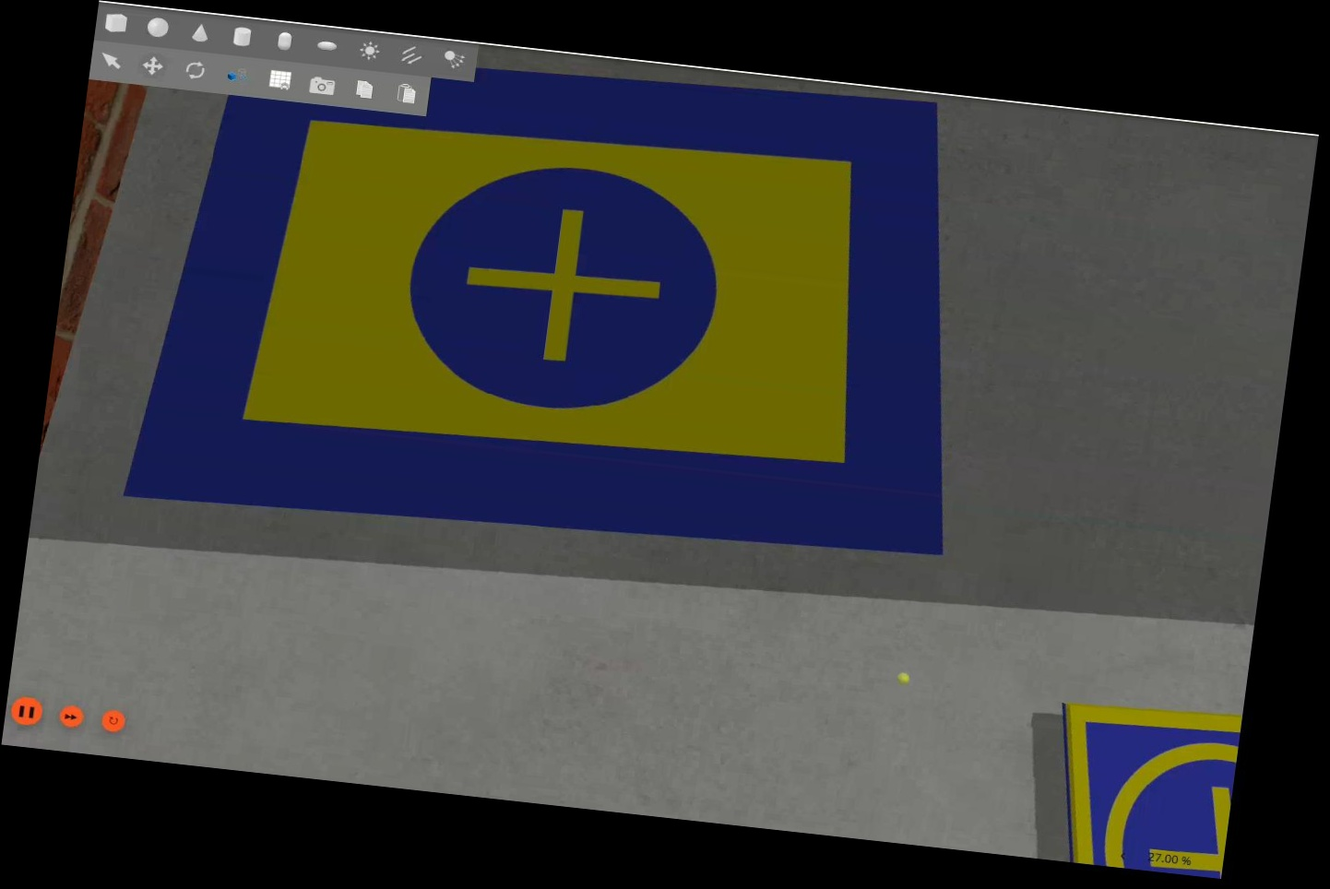large_base: (125, 22, 1002, 587)
small_base: (1043, 694, 1243, 881)
